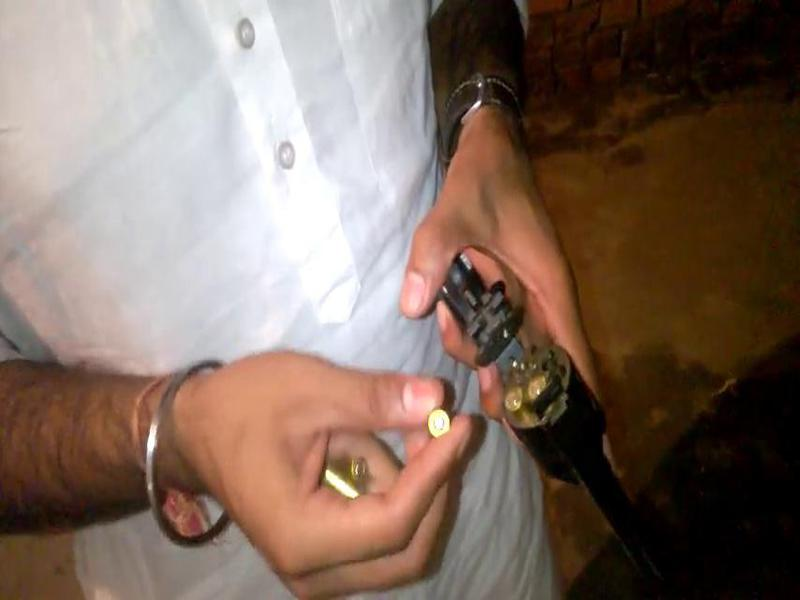Revolver: (377, 260, 709, 598)
